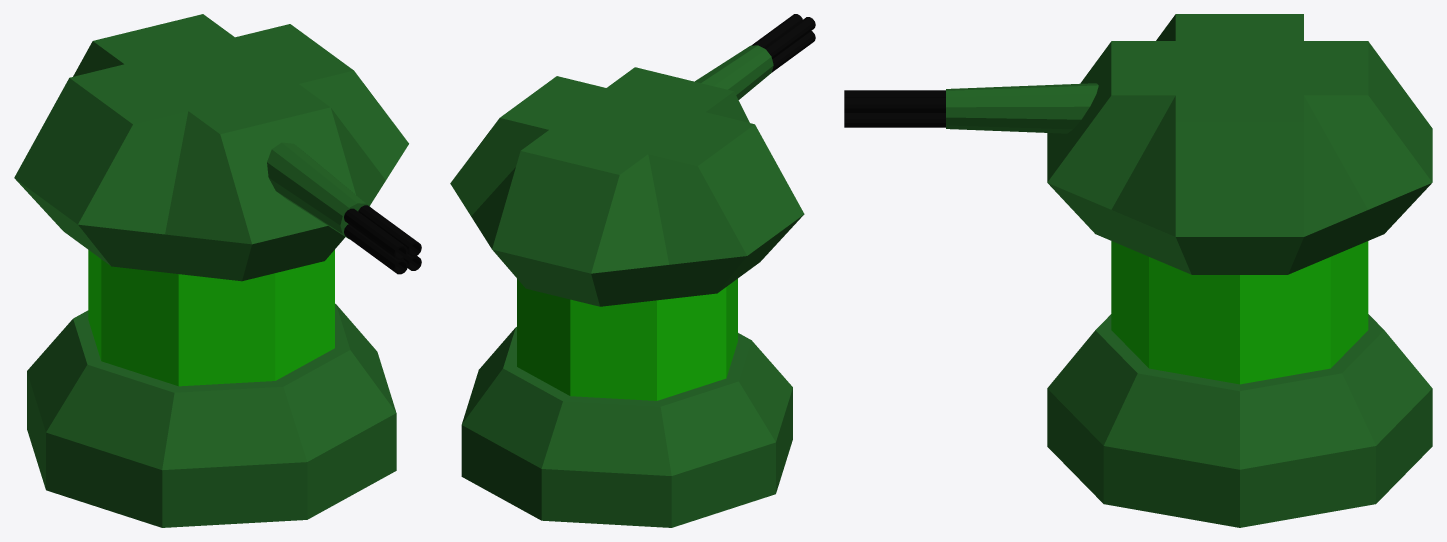
File: Turret0_2.glb
The picture shows the model from 3 angles, left to right: view 1: azimuth 30°, elevation 25°; view 2: azimuth 150°, elevation 25°; view 3: azimuth 270°, elevation 25°; orthographic projection. The views are drawn at different scales.
Parts seen in each view (by area): view 1: TurretUpgradePath0_2; view 2: TurretUpgradePath0_2; view 3: TurretUpgradePath0_2.
Part boxes in pixels (x1=…): TurretUpgradePath0_2: x1=14, y1=14, x2=421, y2=527; TurretUpgradePath0_2: x1=450, y1=14, x2=815, y2=527; TurretUpgradePath0_2: x1=844, y1=14, x2=1432, y2=527.
Size of the model in its own units: 3 by 3.25 by 4.58.
